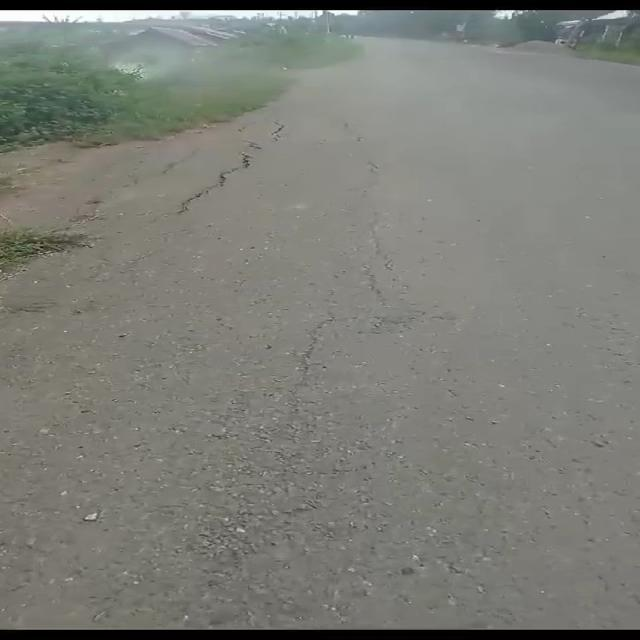Pinggir: (0, 60, 315, 280)
